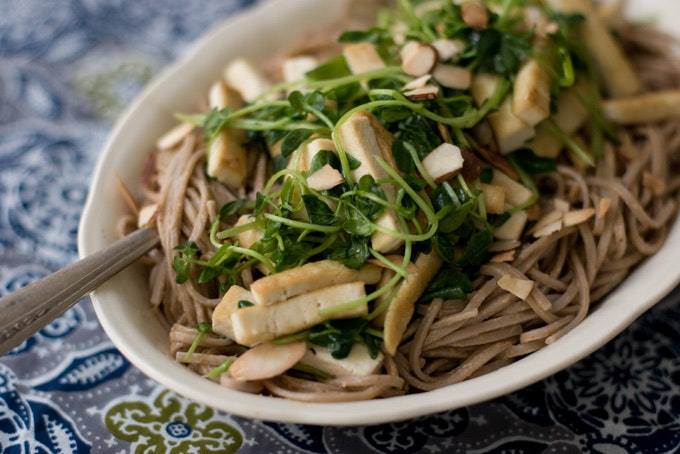Soba: (153, 77, 668, 375)
